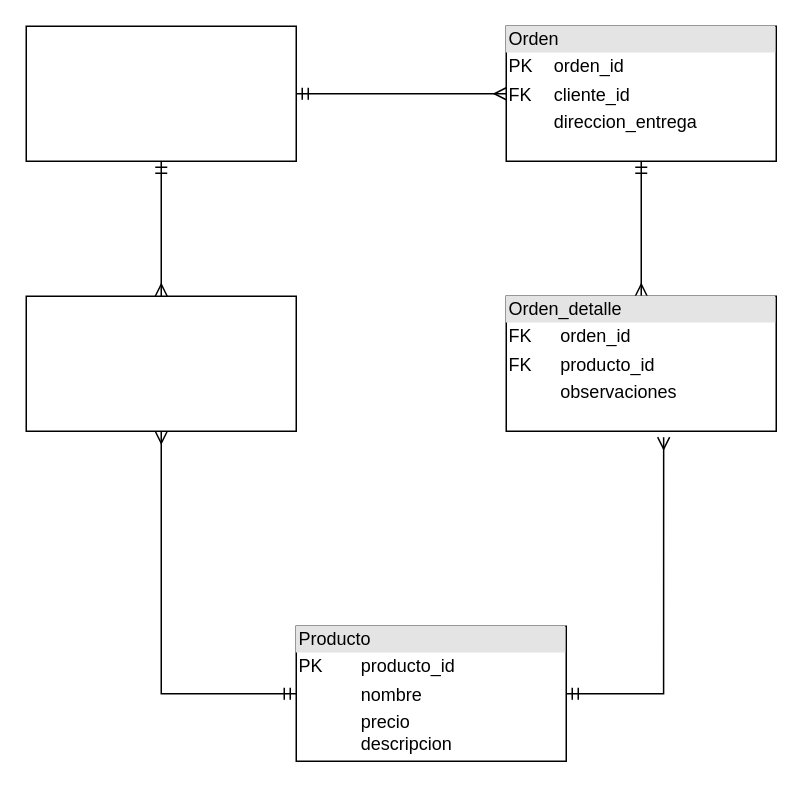
The diagram is 803 pixels wide and 788 high, and some of its shapes have lost their labels. The centre of each missing label's shape, as x and y in pixels:
"Cliente PK cliente_id nombre correo" belongs at point (160, 93).
"Producto_permitido FK cliente_id FK producto_id" belongs at point (160, 363).
